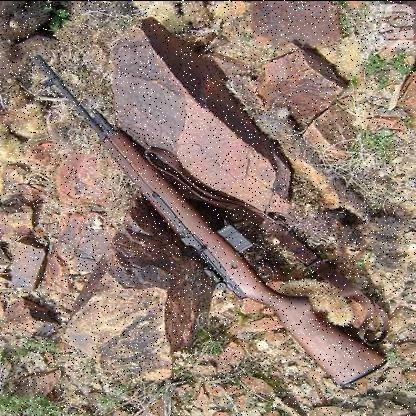rifle: (26, 52, 403, 395)
